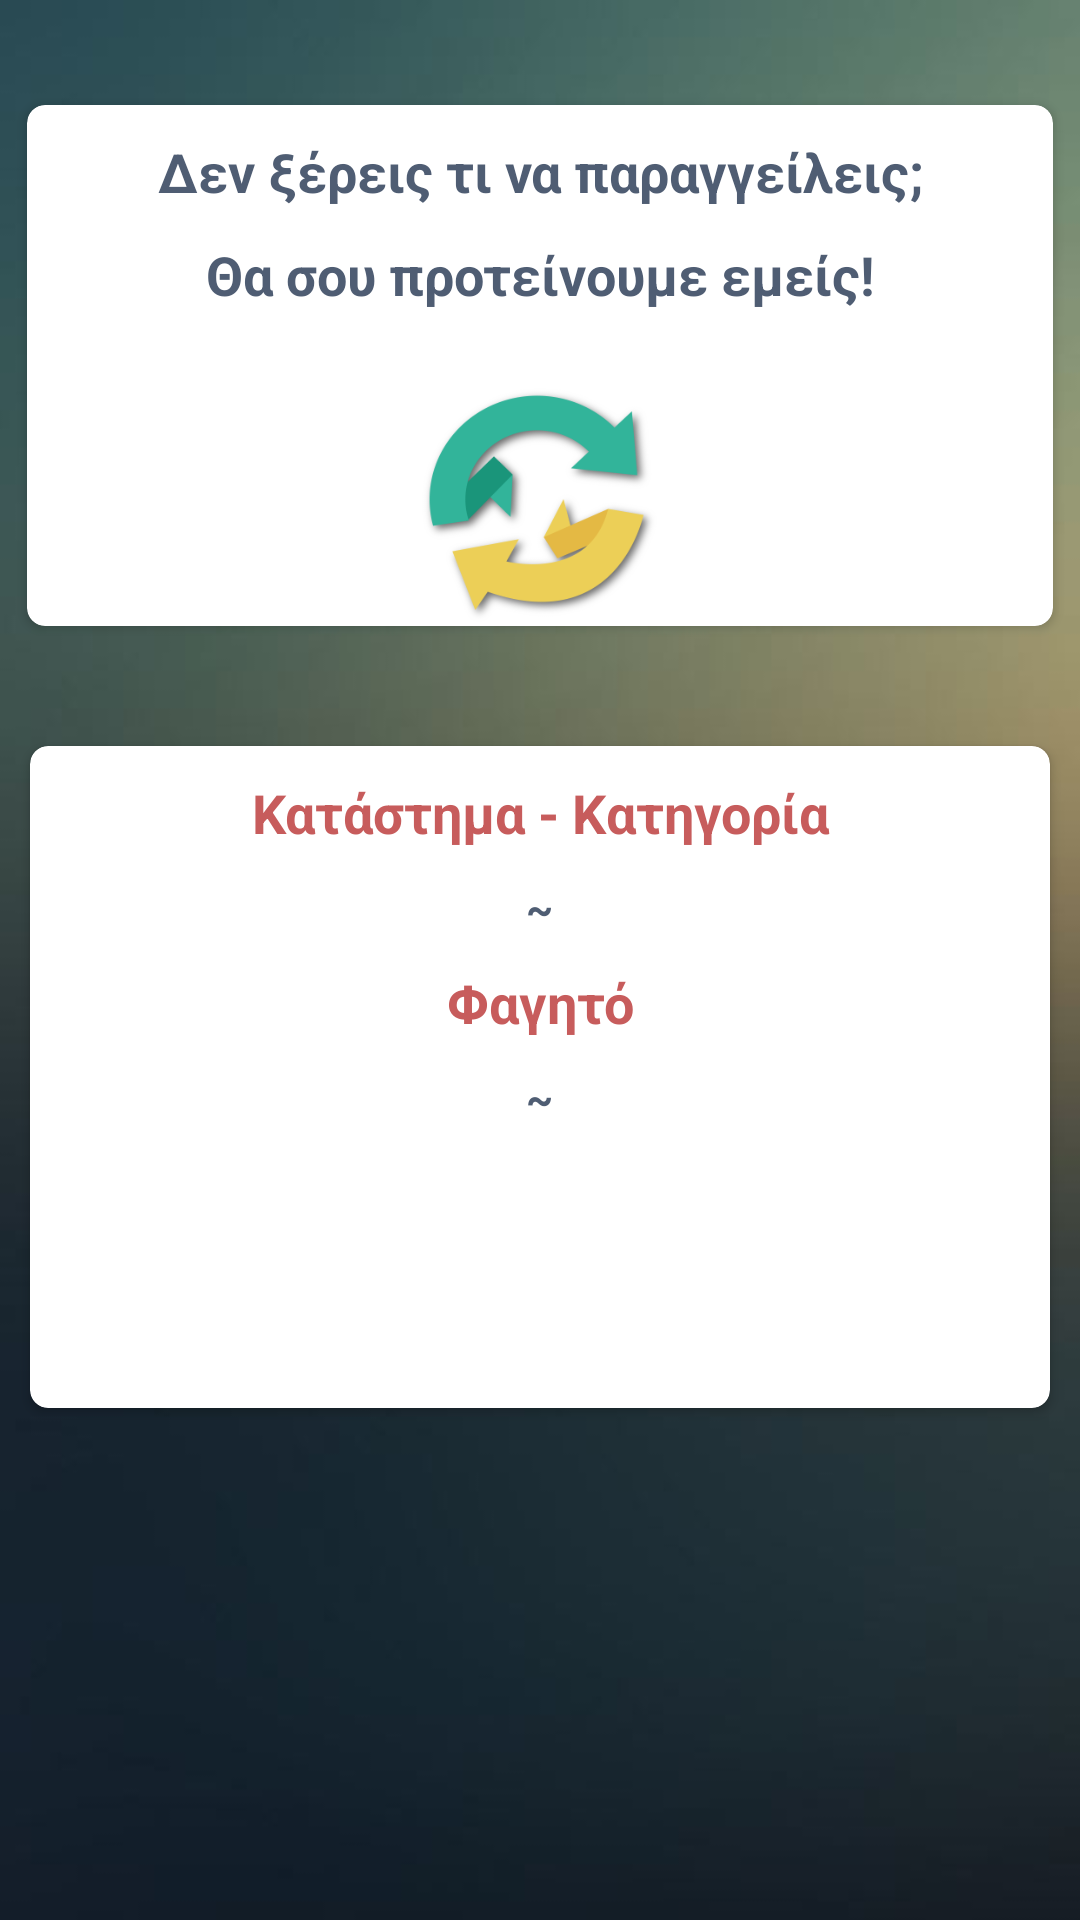

Screen size 1080w x 1920h. Icon name, then its box in pixels as (x1, y1, x2, y2):
gi refresh: (429, 395, 649, 613)
